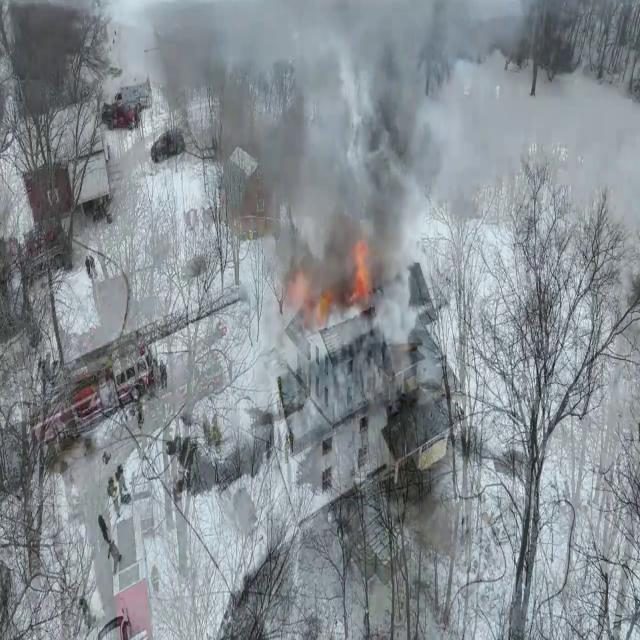Fire: (347, 228, 377, 312)
Smoke: (234, 0, 482, 265)
